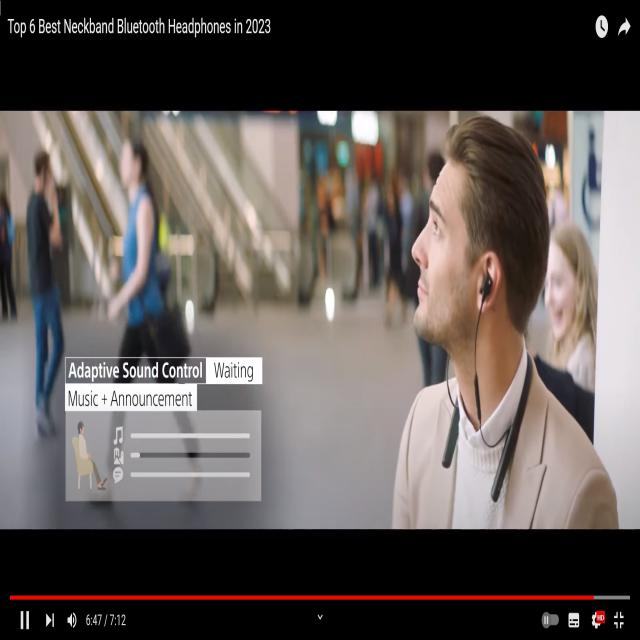Neckband: (441, 268, 534, 502)
